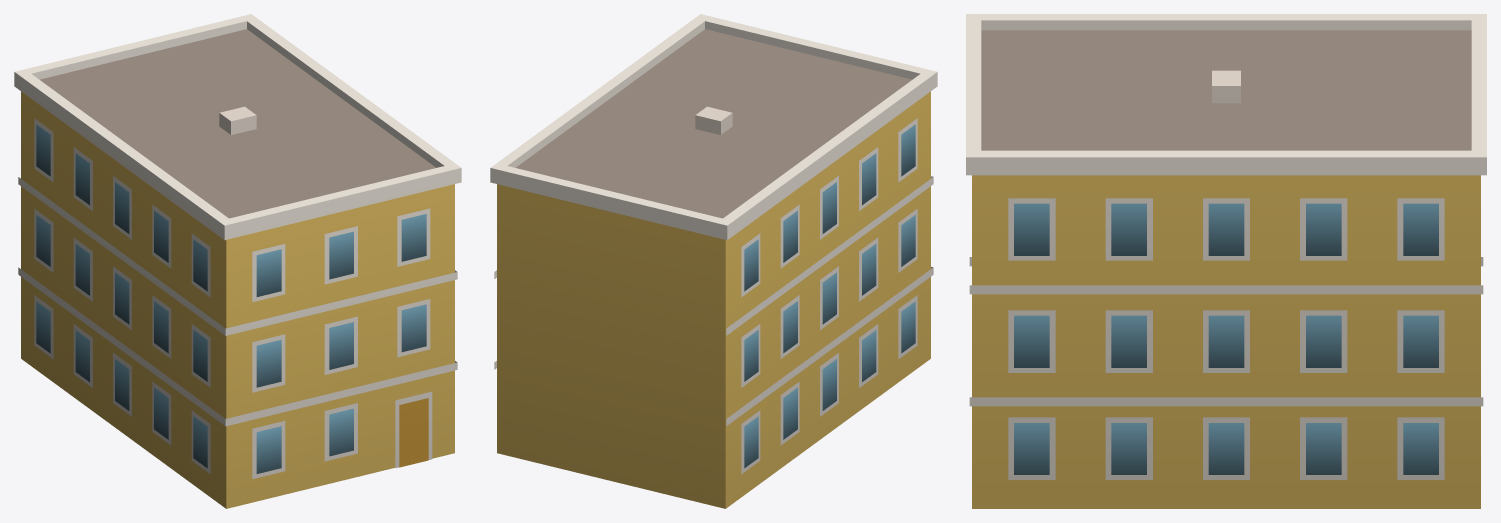
The model's file is boylston_s3_far.glb.
3 renders of one model, left to right at view 1: azimuth 30°, elevation 25°; view 2: azimuth 150°, elevation 25°; view 3: azimuth 270°, elevation 25°, orthographic. The views are drawn at different scales.
Parts seen in each view (by area): view 1: boylston_s3_far; view 2: boylston_s3_far; view 3: boylston_s3_far.
Boxes of the visible parts, box(x1,y1,x2,y2) form: boylston_s3_far: box(14, 14, 461, 508); boylston_s3_far: box(490, 14, 937, 508); boylston_s3_far: box(966, 14, 1486, 508).
Size of the model in its own units: 9.32 by 10.97 by 14.32.
1 material, 1 textured.
